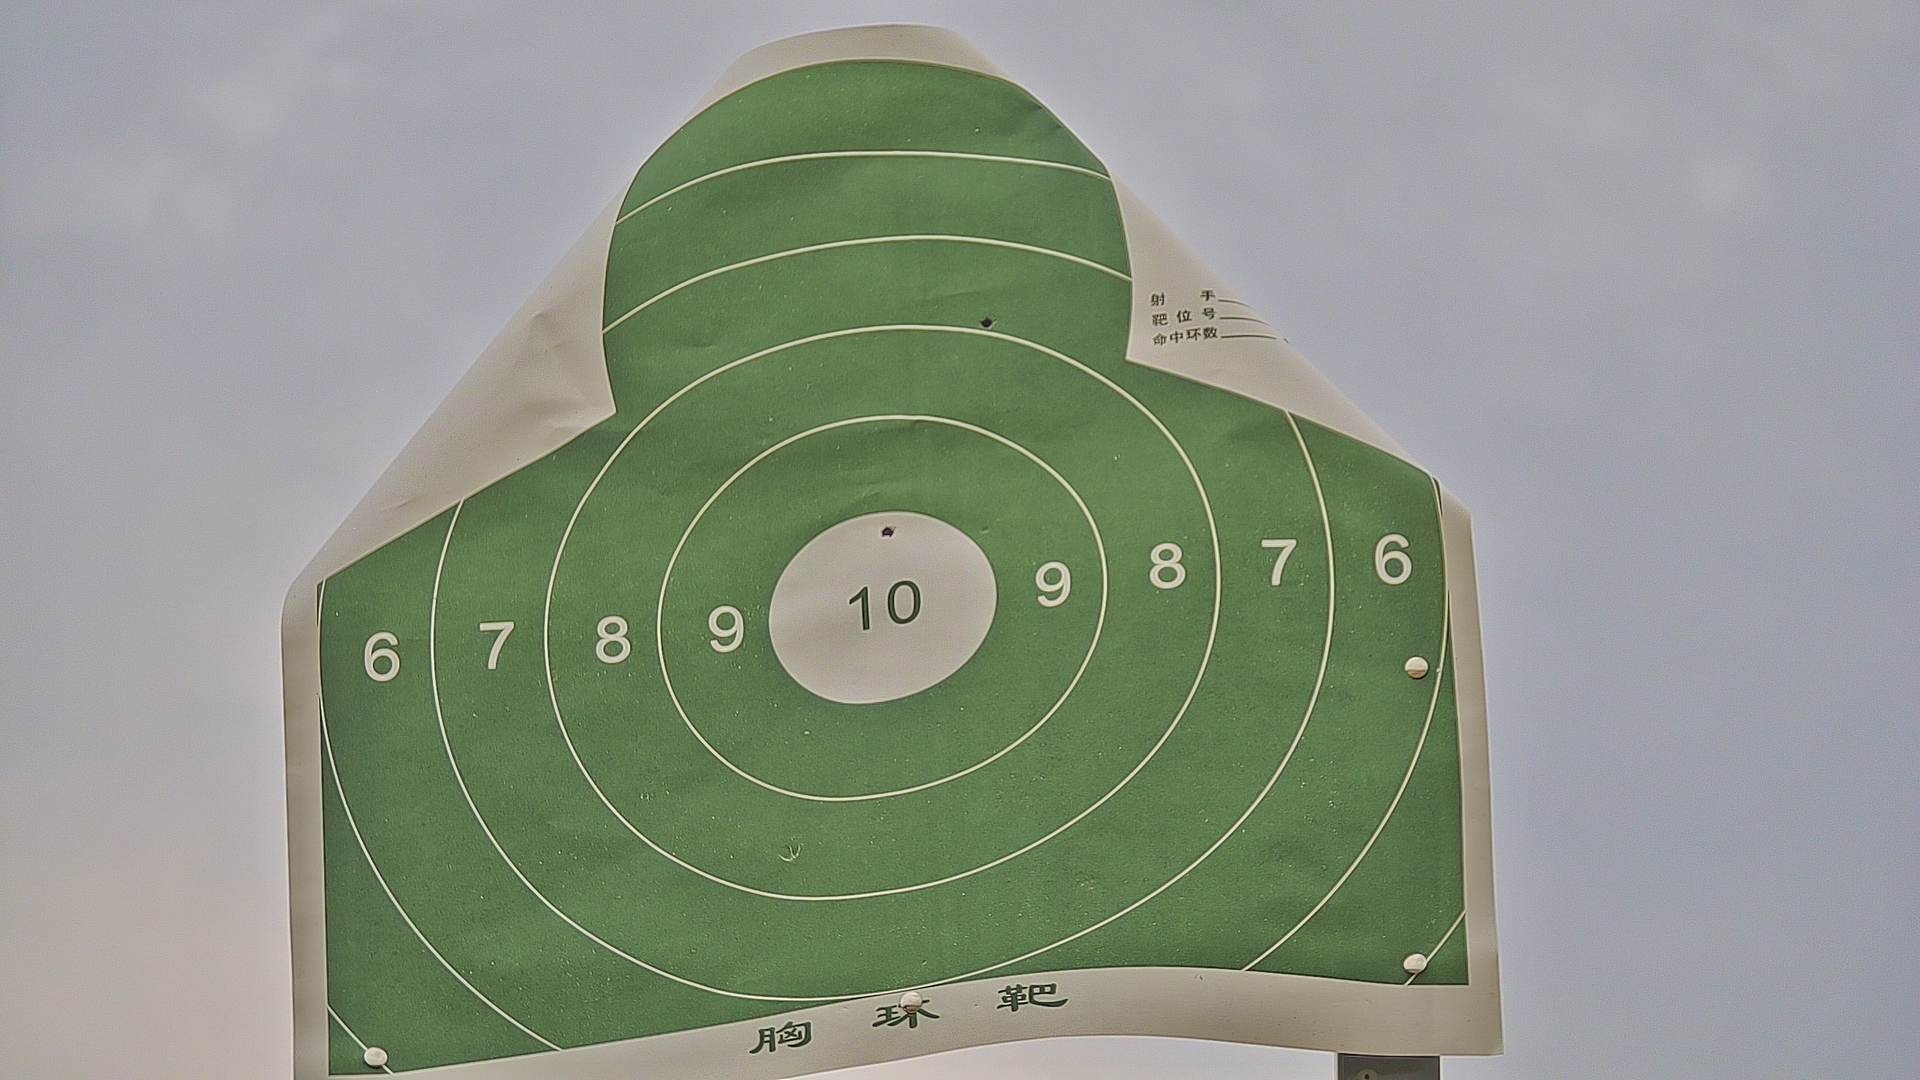hole: (878, 518, 897, 543), (977, 313, 996, 334)
kernel: (878, 599, 898, 615)
target: (316, 59, 1476, 1076)
ten: (761, 516, 1000, 705)
